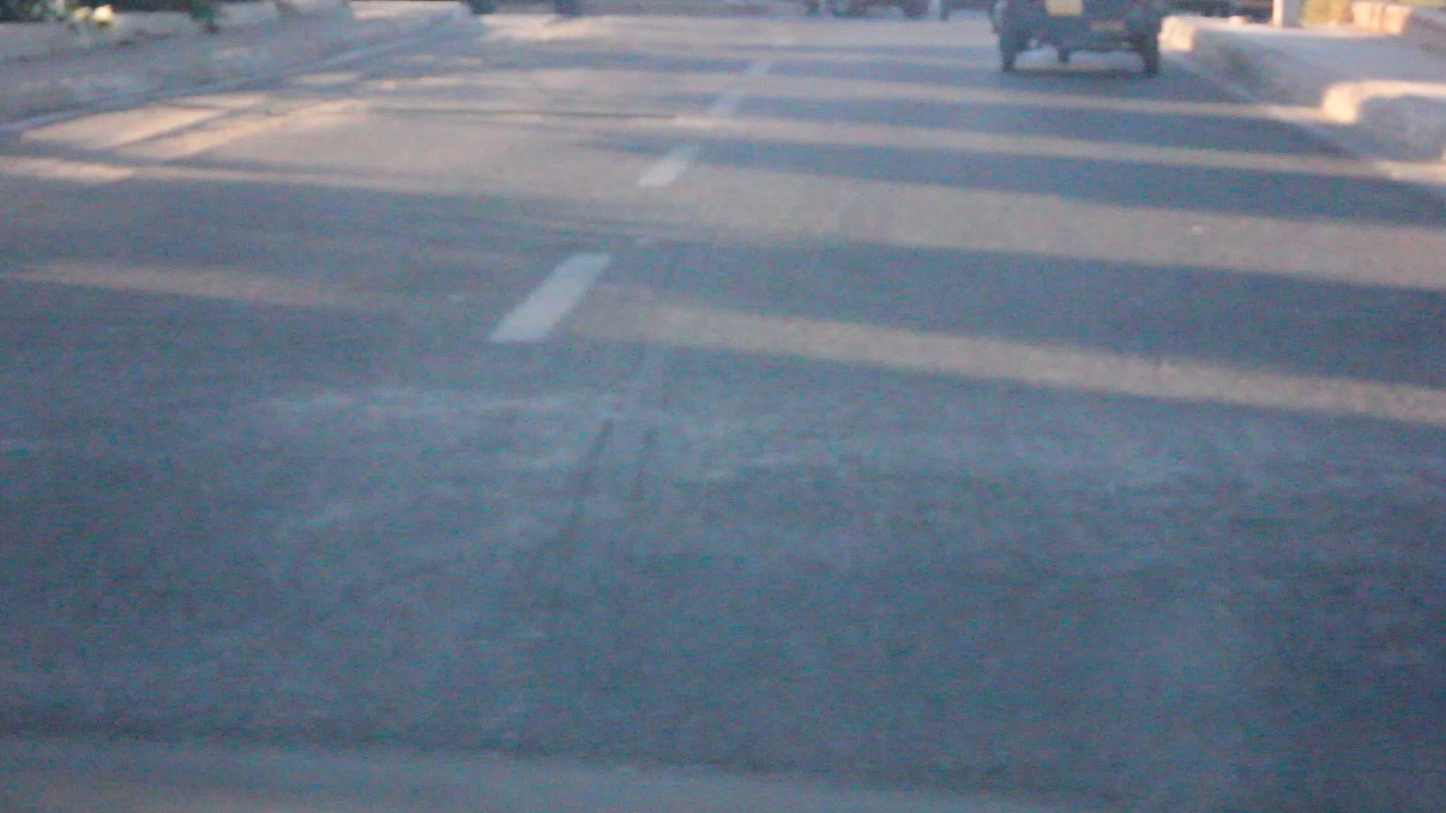Bump: (0, 388, 1446, 779)
